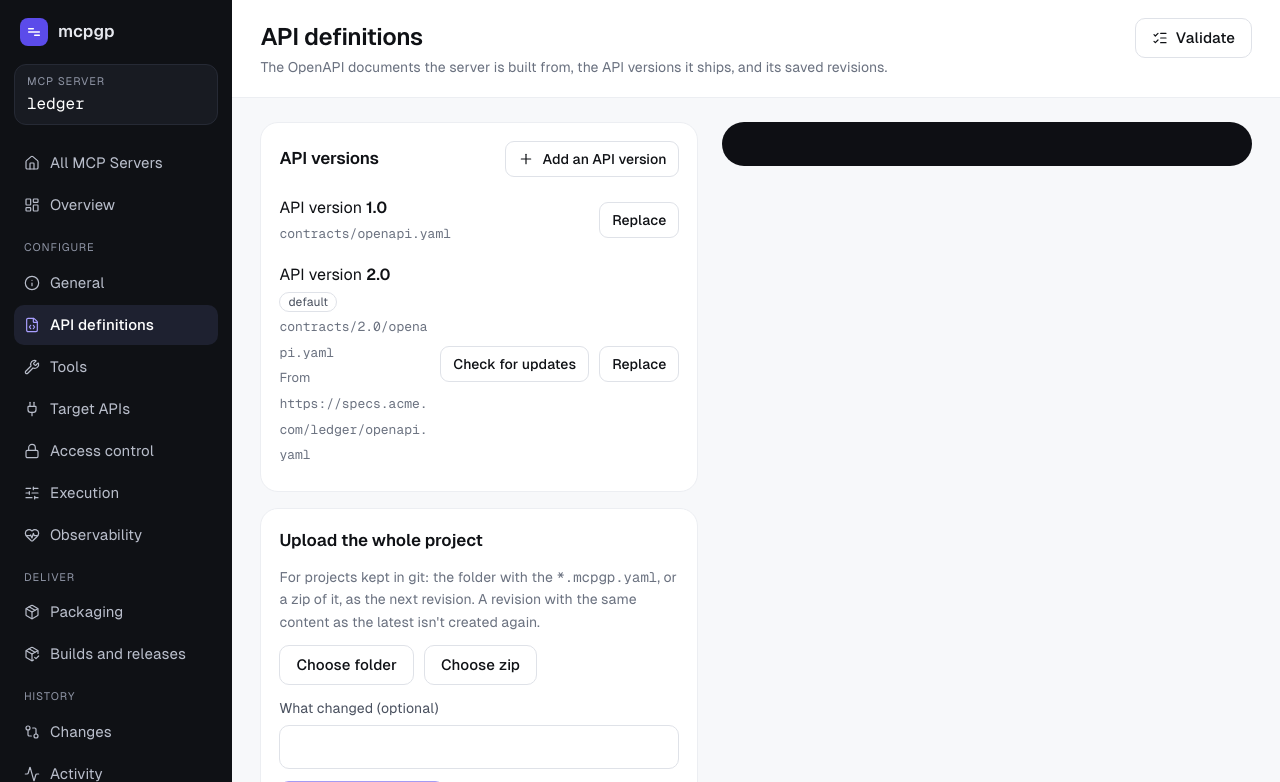
Scenario: specs from an address › says when nothing changed, and saves nothing
Click the button "Check for updates" at {"x": 515, "y": 364}, box [440,346,589,382]
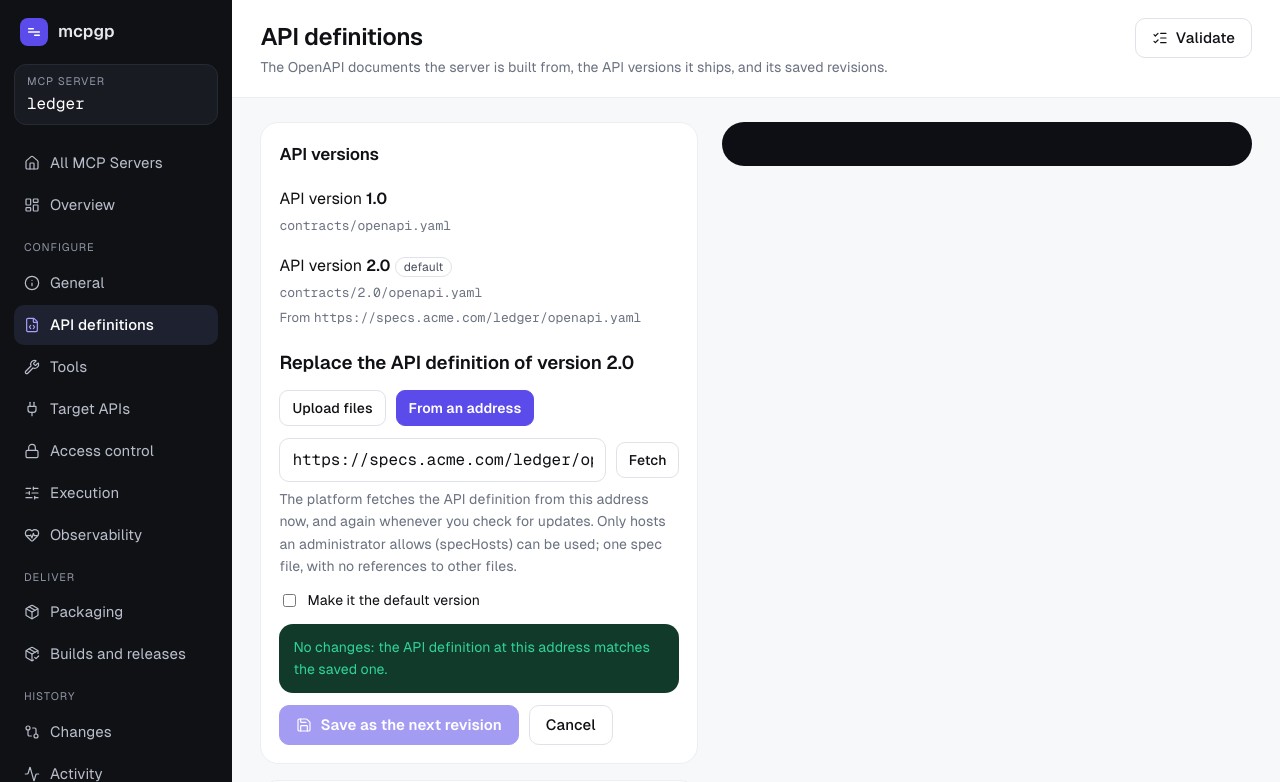
Result: the text "No changes: the API definition at this address matches the saved one." is shown at [279,624,680,693]
Result: the button "Save as the next revision" is disabled at [279,705,519,745]
